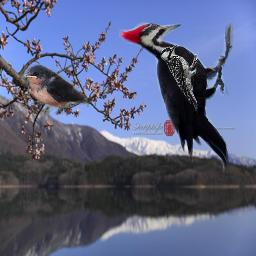Swallow: (22, 64, 89, 115)
Woodpecker: (119, 22, 234, 172), (160, 44, 200, 115)
